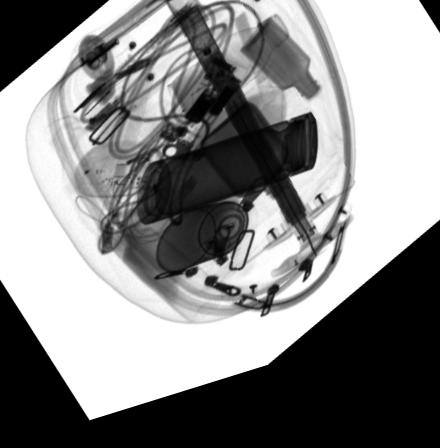Sprayer: (154, 214, 258, 285)
